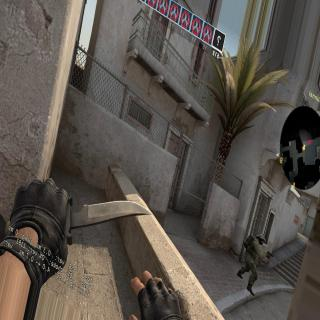CT-Body: (240, 232, 271, 296)
CT-Head: (256, 234, 264, 244)
